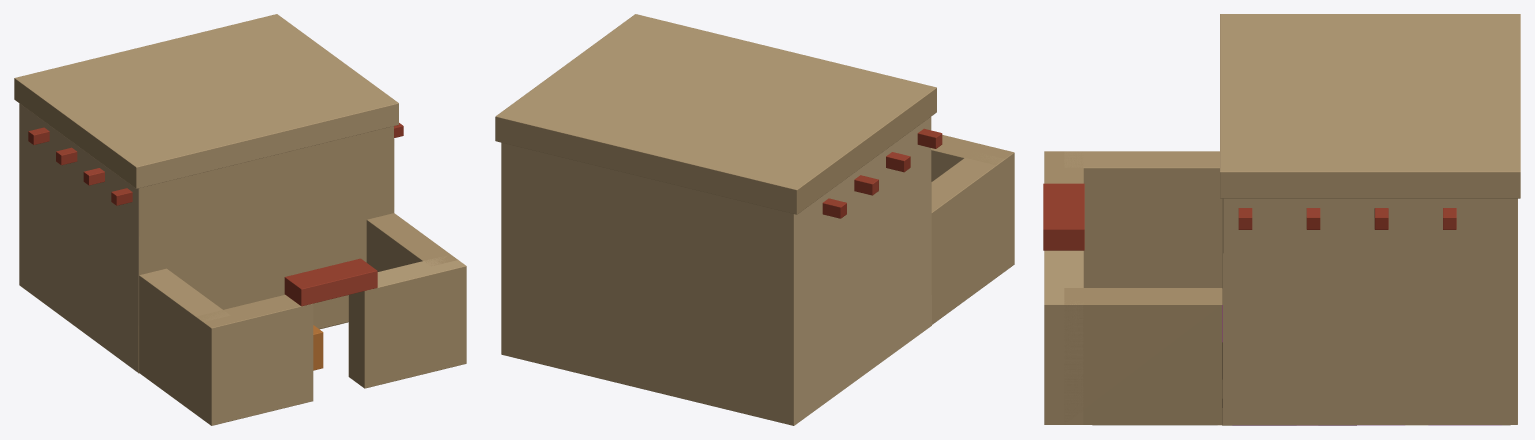
File: House_Chalco_d.fbx
3 views of the same model, side by side, from view 1: azimuth 30°, elevation 25°; view 2: azimuth 150°, elevation 25°; view 3: azimuth 270°, elevation 25° (orthographic). The views are drawn at different scales.
Parts seen in each view (by area): view 1: House_Chalco_d; view 2: House_Chalco_d; view 3: House_Chalco_d.
Boxes of the visible parts, left/top/right/bottom form: House_Chalco_d: left=14, top=14, right=466, bottom=425; House_Chalco_d: left=495, top=14, right=1014, bottom=425; House_Chalco_d: left=1043, top=14, right=1520, bottom=425.
Size of what is drawn, in the model's own units: 4.14 by 2.86 by 4.84.
